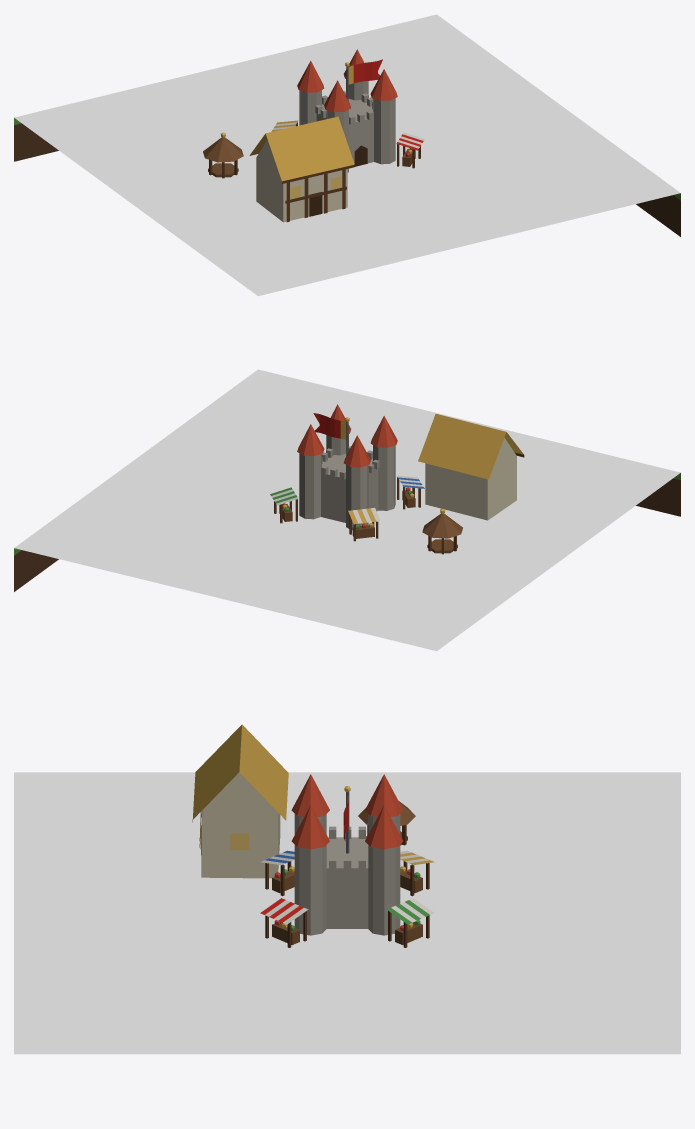
3 renders of one model, top to bottom at view 1: azimuth 30°, elevation 25°; view 2: azimuth 150°, elevation 25°; view 3: azimuth 270°, elevation 25°, orthographic. The views are drawn at different scales.
Parts seen in each view (by area): view 1: c4; view 2: c4; view 3: c4.
Boxes of the visible parts, box(x1,y1,x2,y2) form: c4: box(14, 14, 680, 296); c4: box(14, 369, 680, 651); c4: box(14, 724, 680, 1054).
Size of the model in its own units: 2 by 0.6219 by 2.
